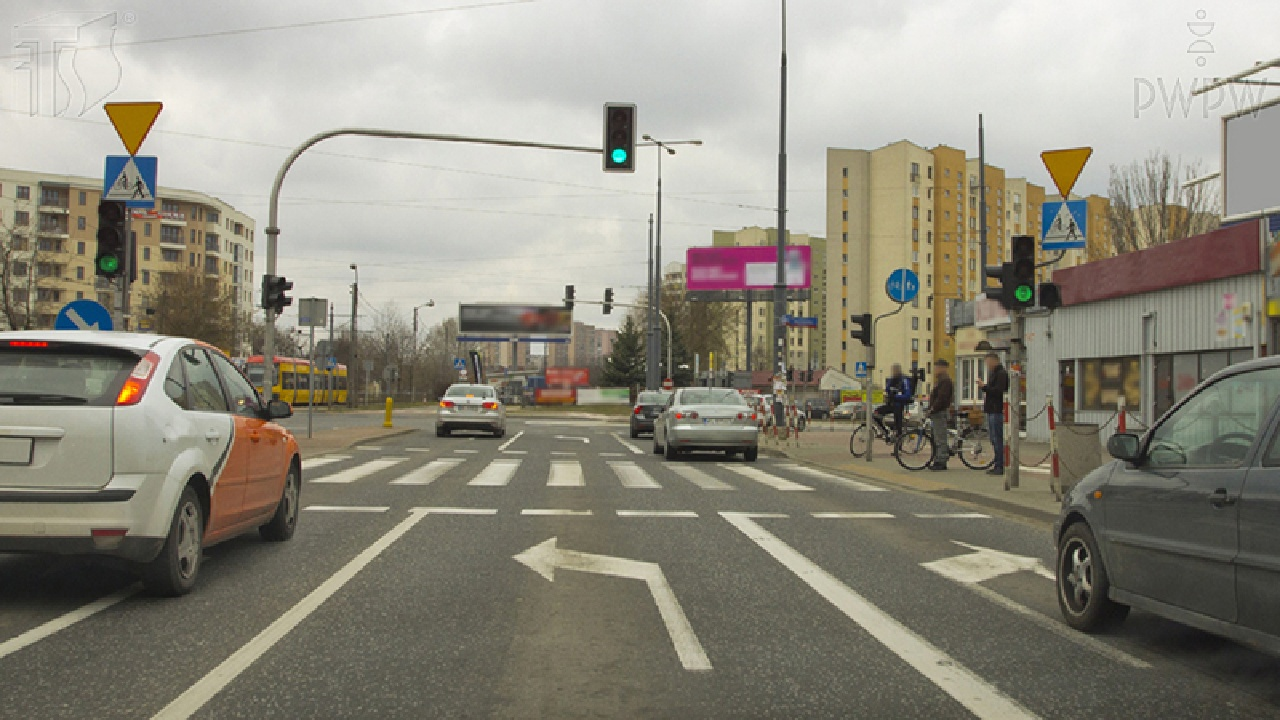A7: (104, 102, 164, 155), (1039, 146, 1094, 201)
Green: (99, 202, 119, 274), (1013, 238, 1032, 303), (611, 112, 627, 165)
